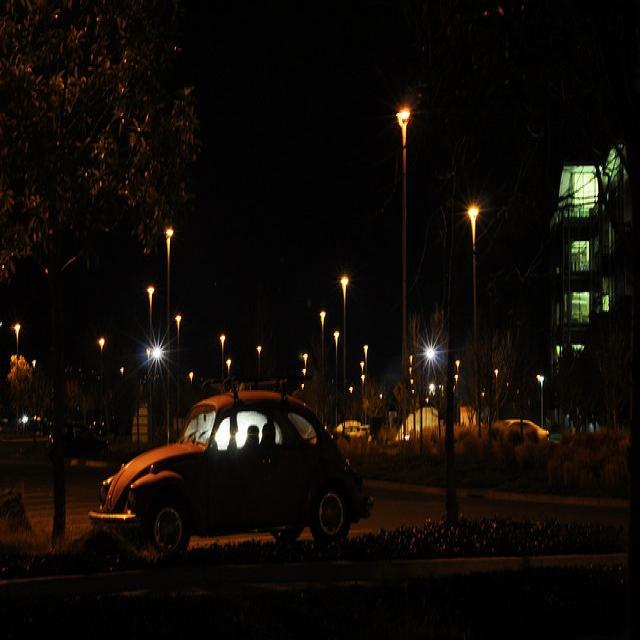car: (96, 392, 388, 594), (412, 391, 486, 471), (43, 402, 108, 479), (500, 399, 567, 473), (333, 397, 372, 459)
